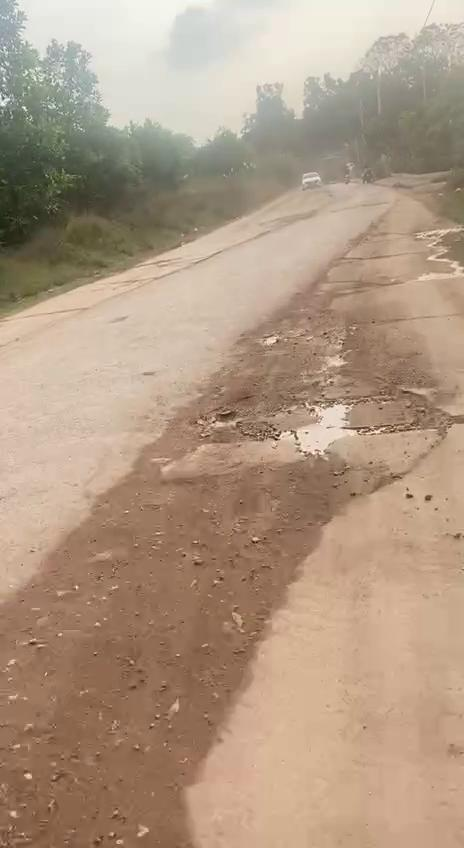pothole: (263, 385, 456, 468)
